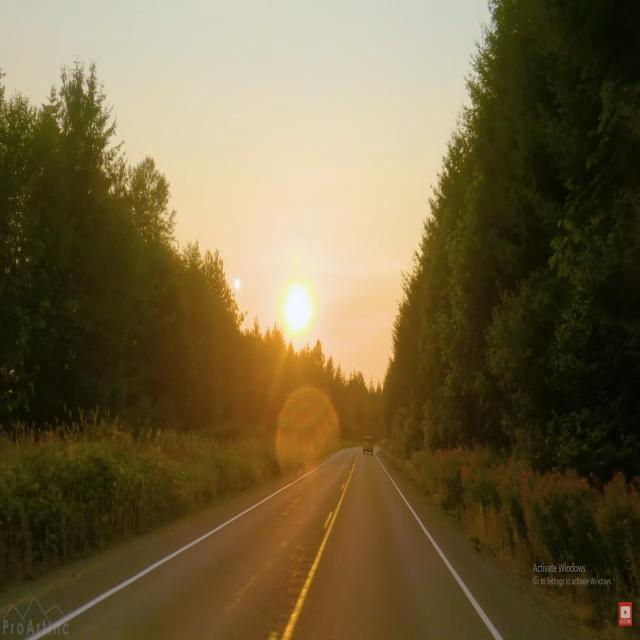sun: (276, 276, 322, 335)
